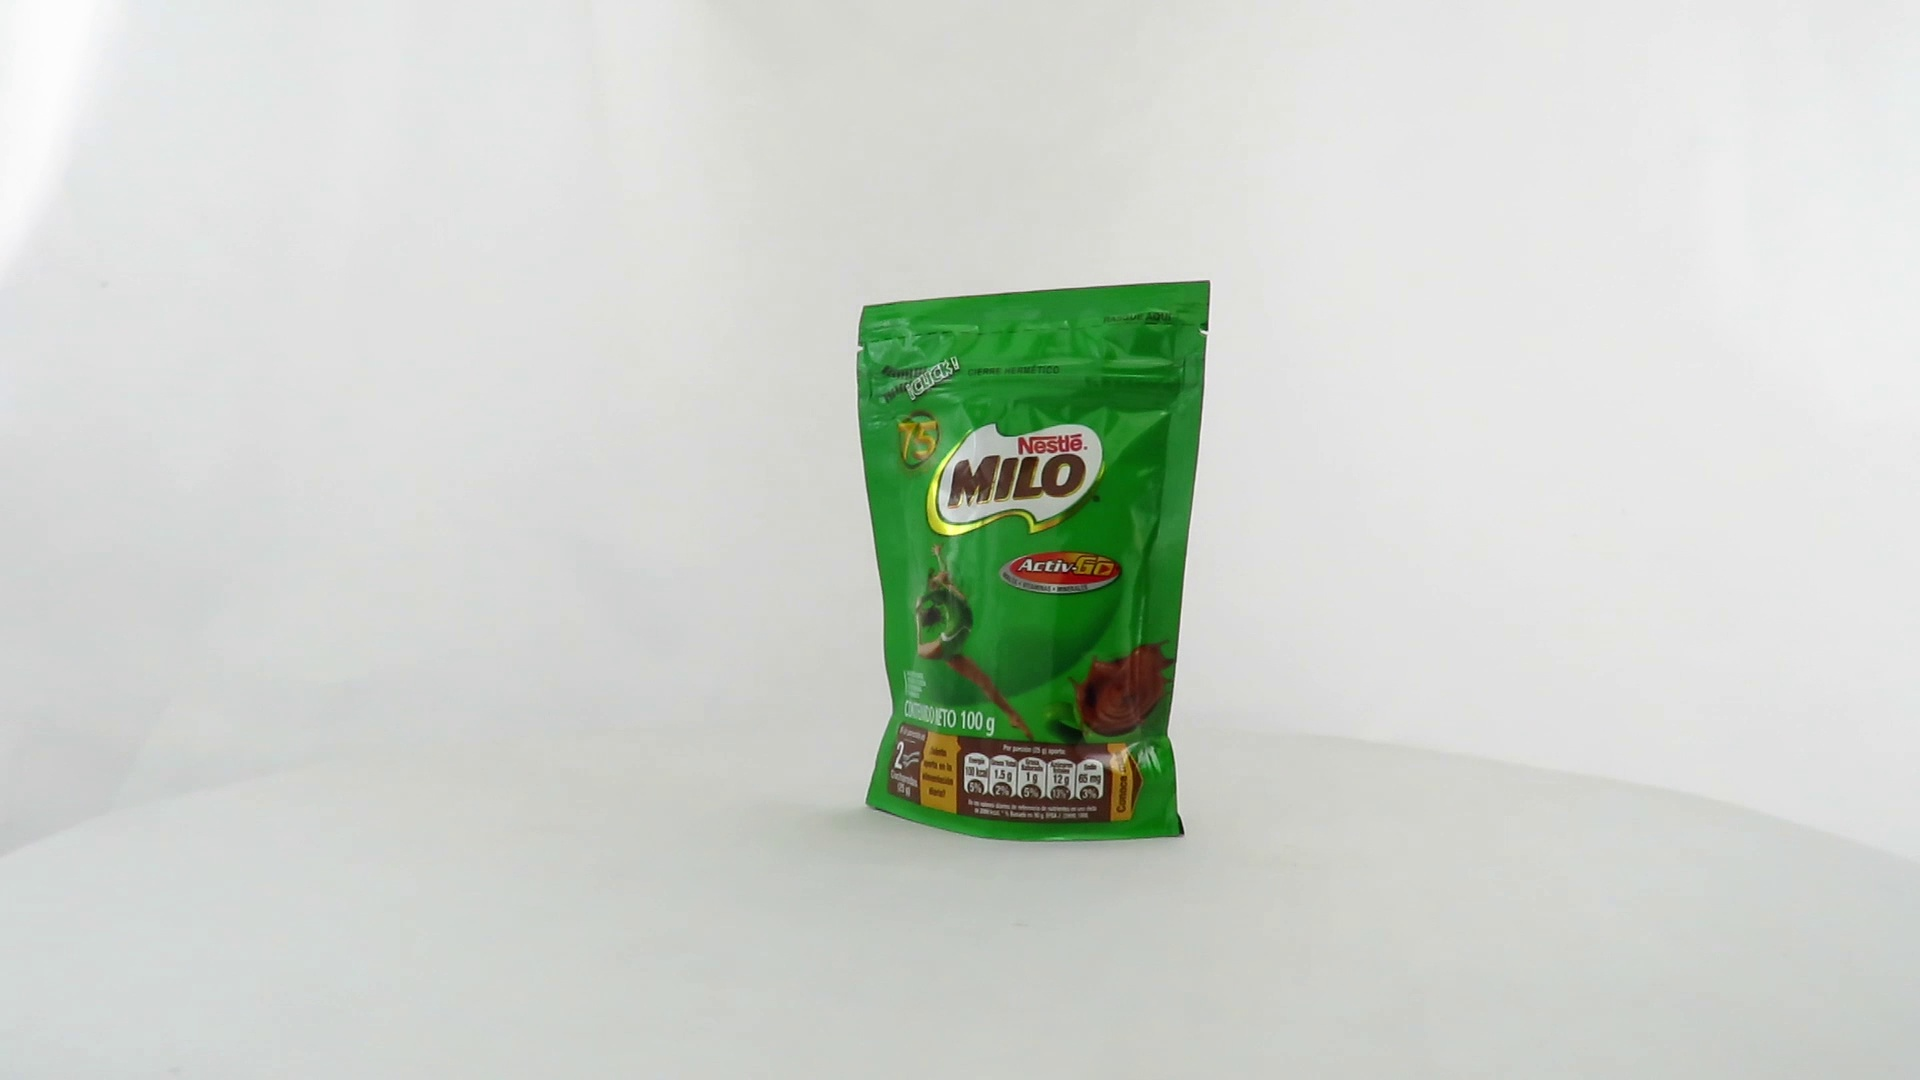COL0170203DYP10000: (851, 276, 1217, 849)
